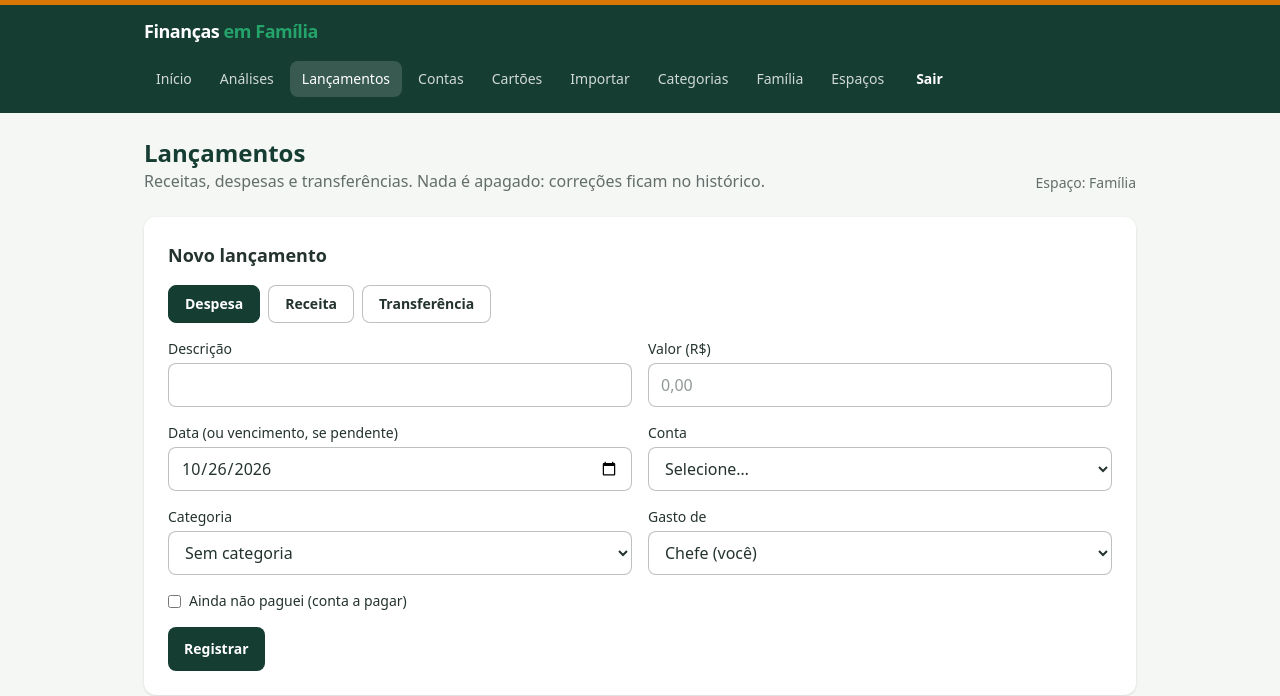
Scenario: Lançamentos › recusa valor inválido e zero
The width and height of the screenshot is (1280, 696).
Type "Teste" into the field labelled "Descrição" at [400, 385], box [168,363,632,407]
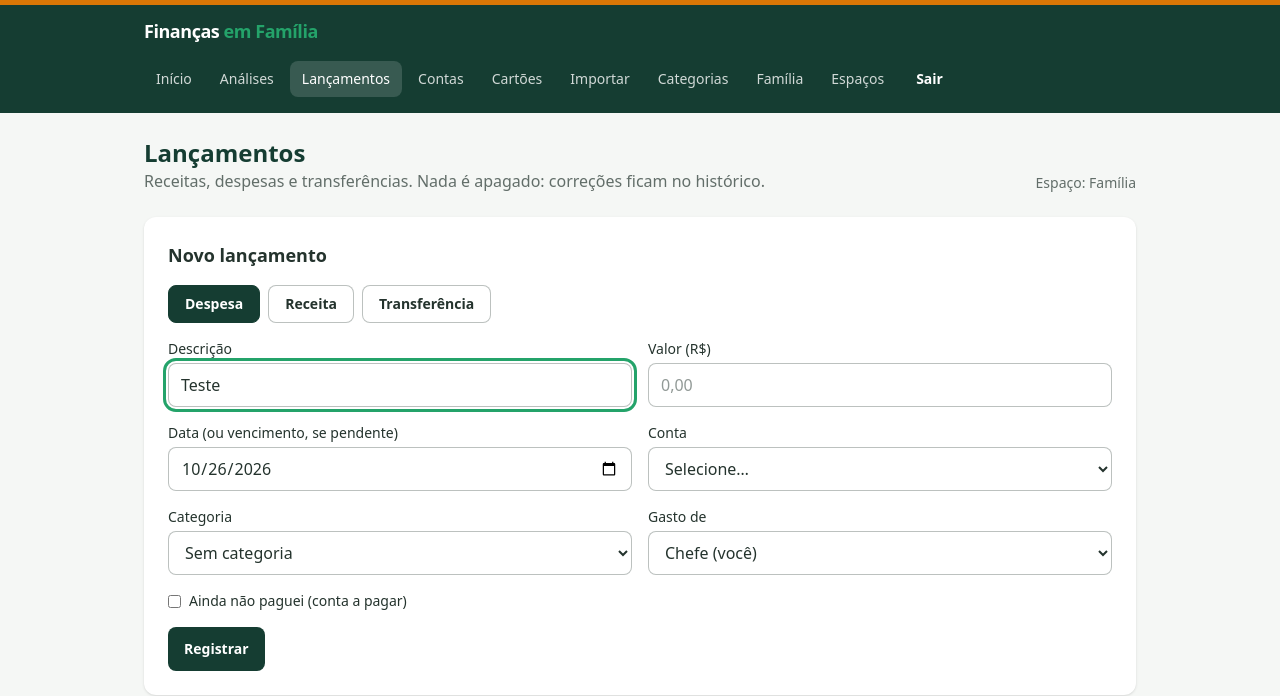
Type "0" into the field labelled "Valor (R$)" at [880, 385], box [648,363,1112,407]
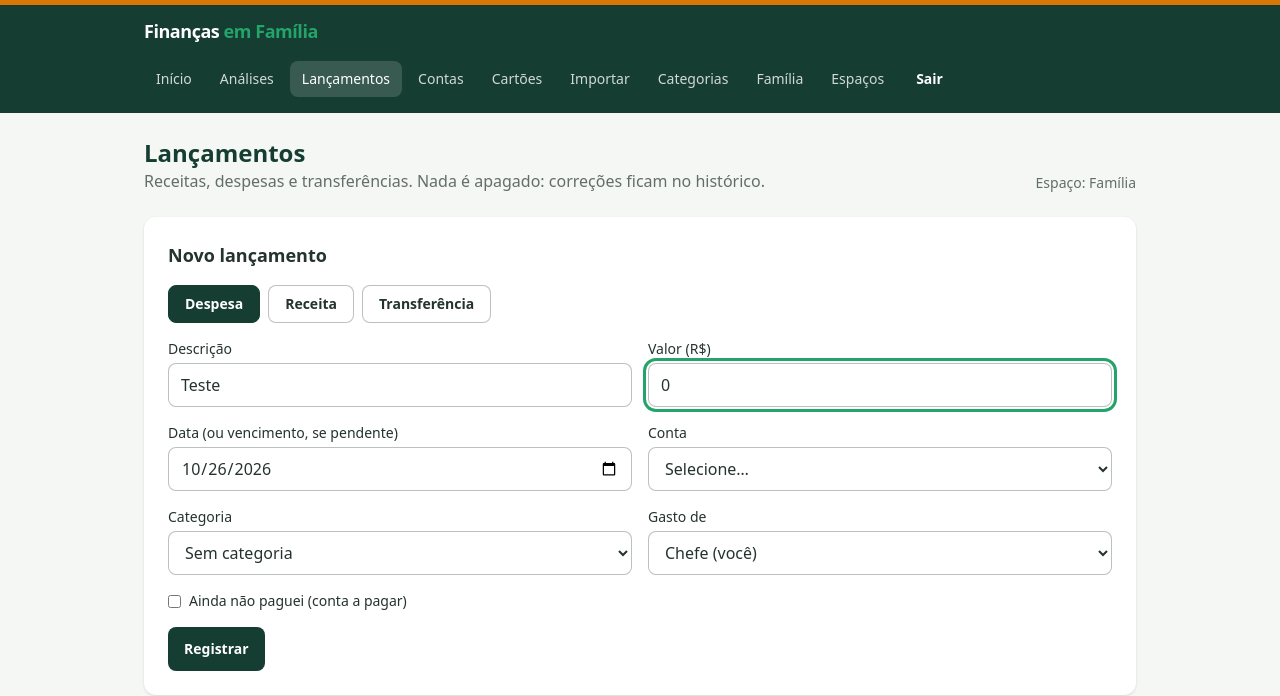
Click the button "Registrar" at [216, 649], box [168,627,265,671]
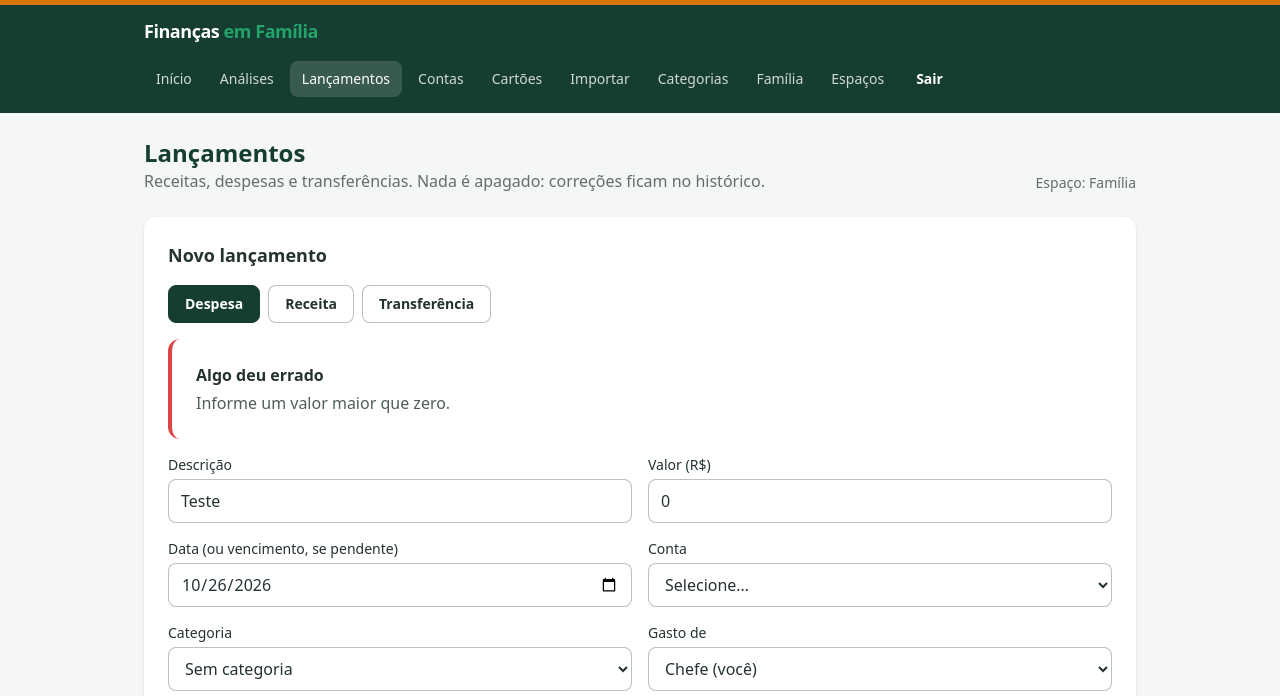
Check: the message shows "Informe um valor maior que zero.", box [196,392,450,414]
Replace the text in the field labelled "Valor (R$)" with "12,345" at [880, 501], box [648,479,1112,523]
(page scrolled)
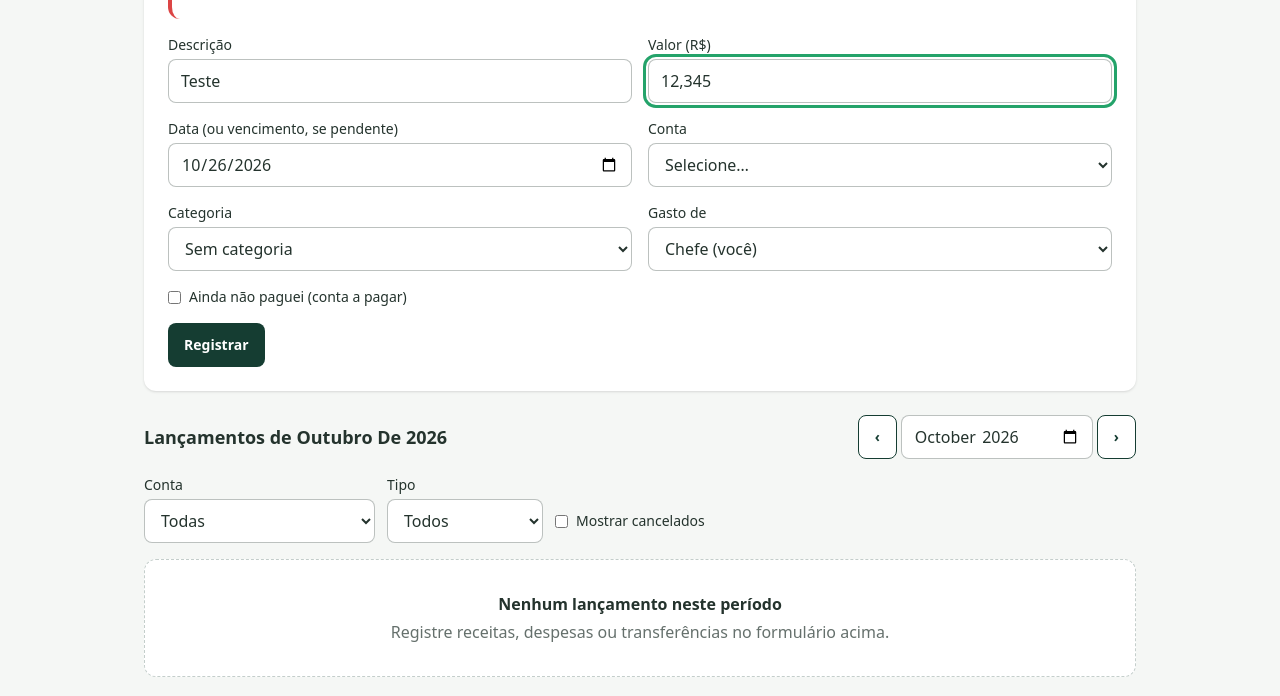
Click the button "Registrar" at [216, 345], box [168,323,265,367]
(page scrolled)
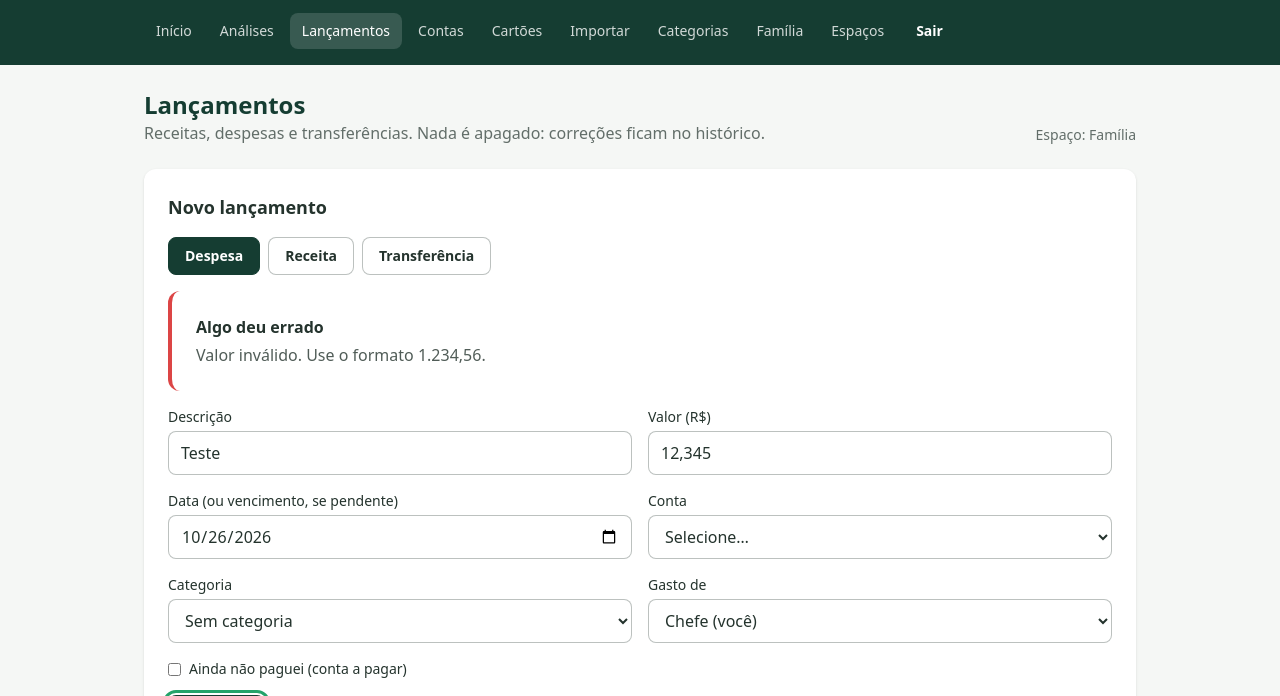
Check: the message shows "Valor inválido", box [196,344,486,366]
